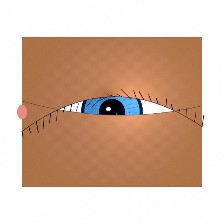pinguecula_lesion: (153, 90, 190, 119)
